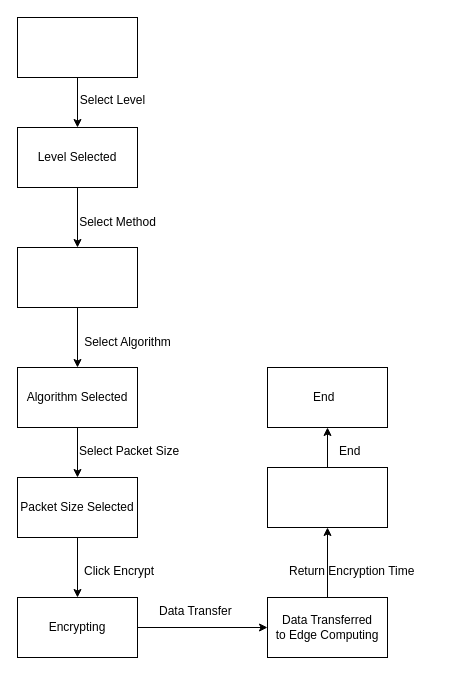
This 465x675 diagram has some shape labels left out. Here are the shapes that lost their labels. From the top down, the box of each, then its label:
(16, 16, 138, 78): User
(16, 246, 138, 308): Method Selected
(266, 466, 388, 528): Display Result
